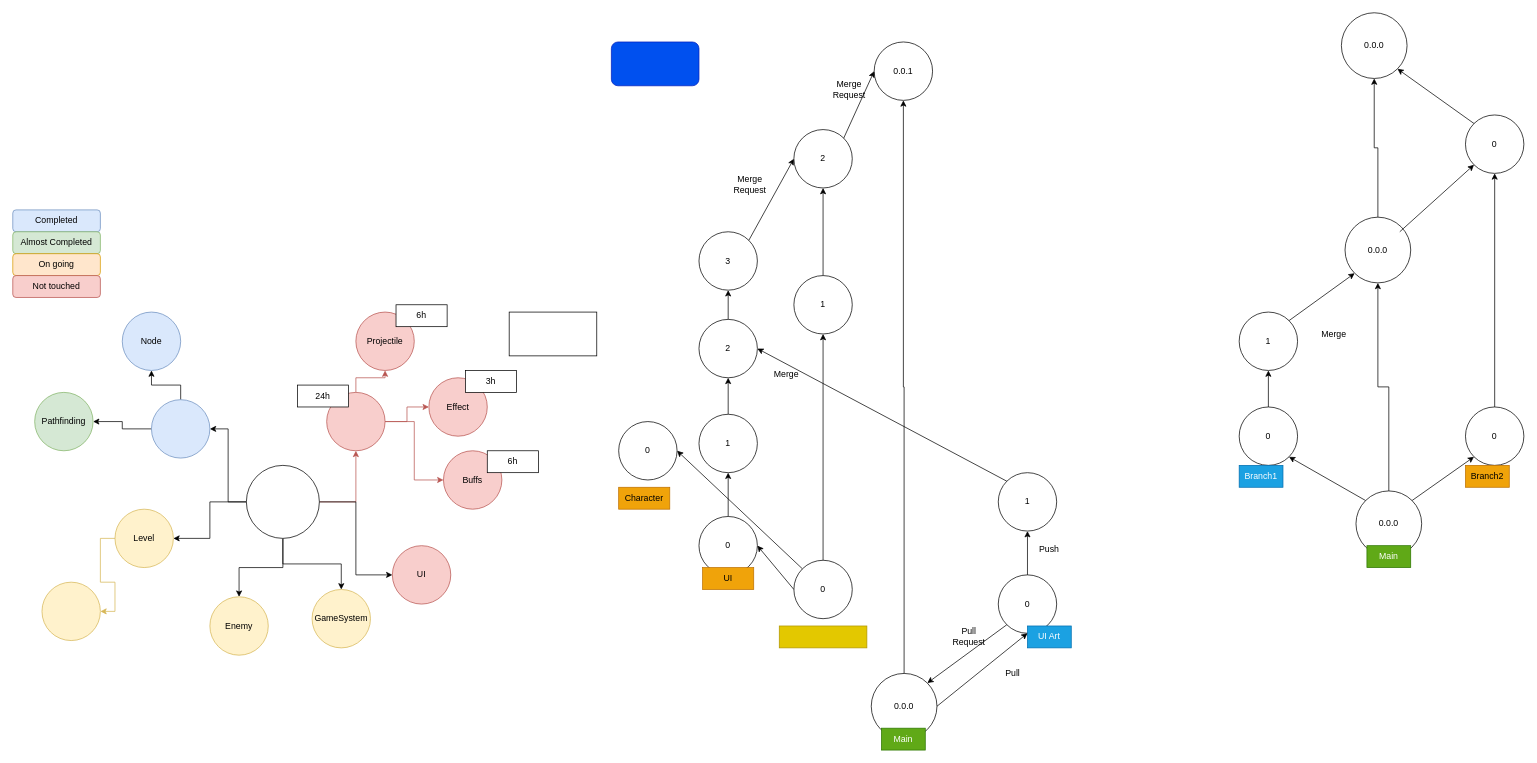
The diagram is 1537 pixels wide and 763 high, and some of its shapes have lost their labels. The centre of each missing label's shape, as x and y in pixels:
"260h / 240h" goes at (552,333).
"Develpoment" goes at (823,636).
"Git" goes at (655,63).
"Map" goes at (180,428).
"StageData" goes at (70,611).
"Tower" goes at (355,421).
"TowerDefence" goes at (282,501).
